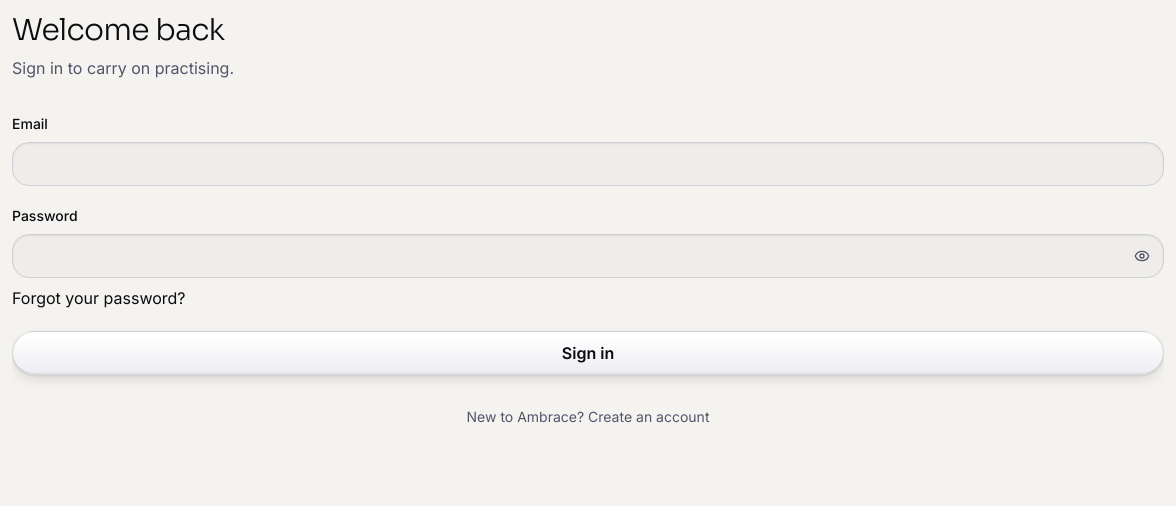
Test: a wrong password gets a clear message and the form stays usable
In the field labelled "Email": (588, 164) [12,142,1164,186], type "asha@example.com"
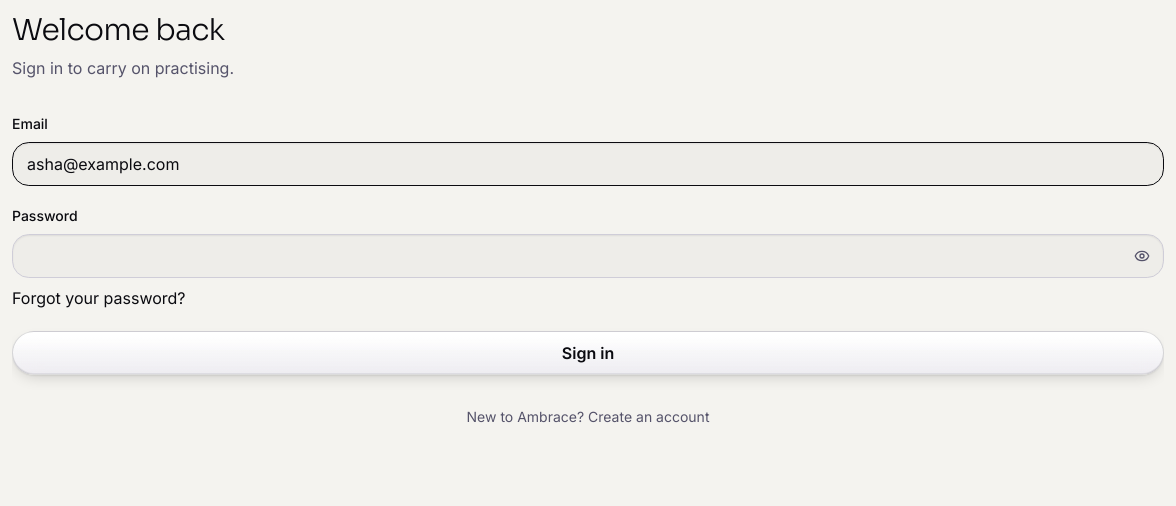
In the password field labelled "Password": (588, 256) [12,234,1164,278], type "wrong"
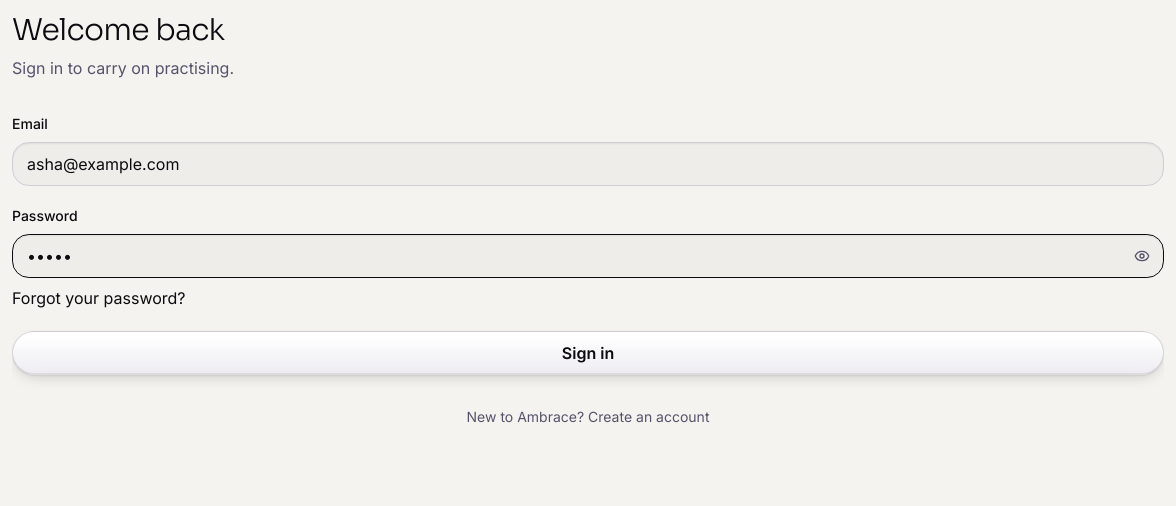
Click the button "Sign in": click(588, 353) [12,331,1164,375]
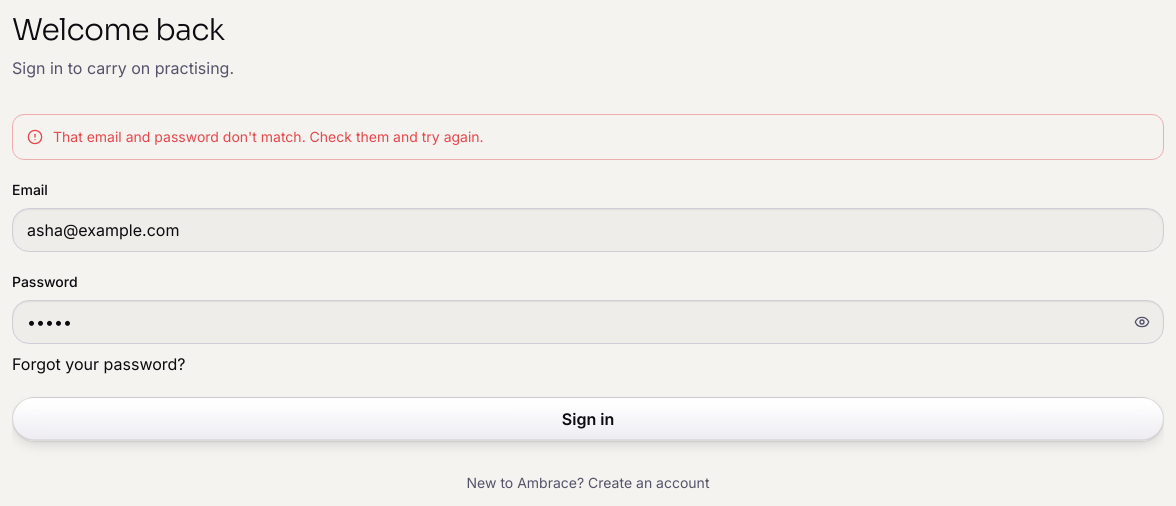
Check: the button "Sign in" is enabled, box [12,397,1164,441]
Check: the message shows "email and password don't match", box [53,128,484,145]
